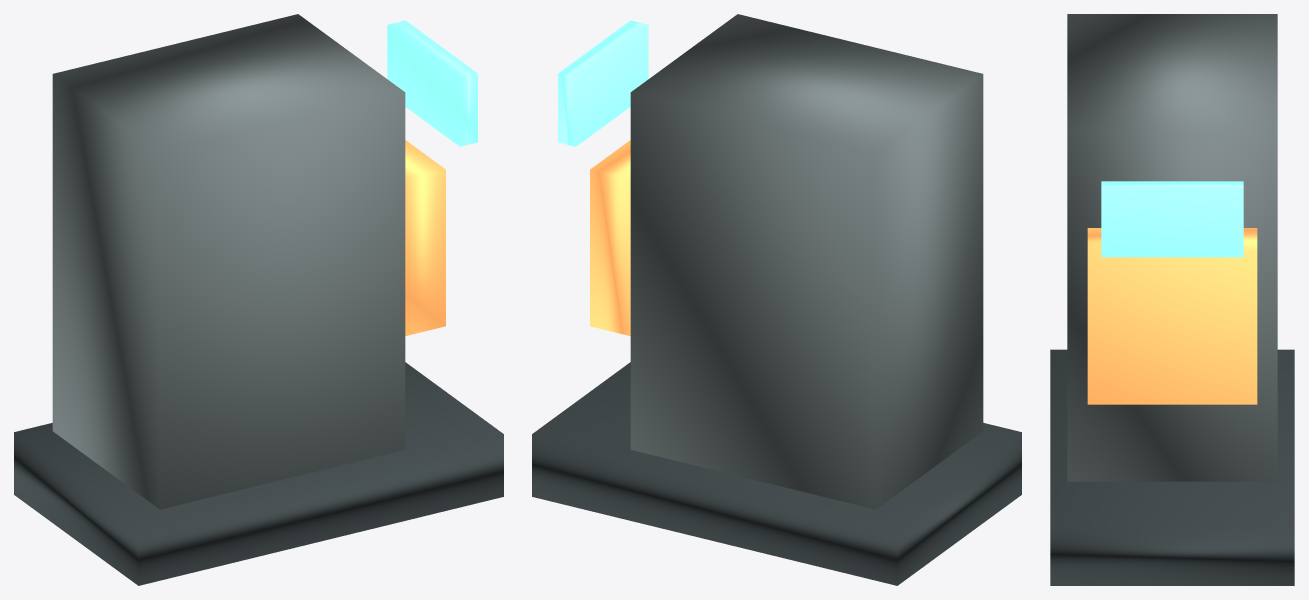
The model's file is jovian-harvester-storm-pressure-lock-lod2.glb.
The picture shows the model from 3 angles, left to right: view 1: azimuth 30°, elevation 25°; view 2: azimuth 150°, elevation 25°; view 3: azimuth 270°, elevation 25°; orthographic projection. The views are drawn at different scales.
Visible parts, largest first — view 1: jovian-harvester-storm-pressure-lock-frame, jovian-harvester-storm-pressure-lock-base, jovian-harvester-pressure-status, jovian-harvester-storm-pressure-lock-wheel; view 2: jovian-harvester-storm-pressure-lock-frame, jovian-harvester-storm-pressure-lock-base, jovian-harvester-pressure-status, jovian-harvester-storm-pressure-lock-wheel; view 3: jovian-harvester-storm-pressure-lock-frame, jovian-harvester-storm-pressure-lock-base, jovian-harvester-storm-pressure-lock-wheel, jovian-harvester-pressure-status.
Boxes of the visible parts, x1,y1,x2,y2 form: jovian-harvester-storm-pressure-lock-frame: (52,14,405,509); jovian-harvester-storm-pressure-lock-base: (14,362,503,585); jovian-harvester-pressure-status: (387,20,477,146); jovian-harvester-storm-pressure-lock-wheel: (405,140,445,335); jovian-harvester-storm-pressure-lock-frame: (630,14,983,509); jovian-harvester-storm-pressure-lock-base: (532,362,1021,585); jovian-harvester-pressure-status: (558,20,648,146); jovian-harvester-storm-pressure-lock-wheel: (590,140,630,335); jovian-harvester-storm-pressure-lock-frame: (1067,14,1277,481); jovian-harvester-storm-pressure-lock-base: (1050,349,1294,585); jovian-harvester-storm-pressure-lock-wheel: (1087,228,1257,404); jovian-harvester-pressure-status: (1101,181,1243,257).
Size of the model in its own units: 1.22 by 1.34 by 0.72.
